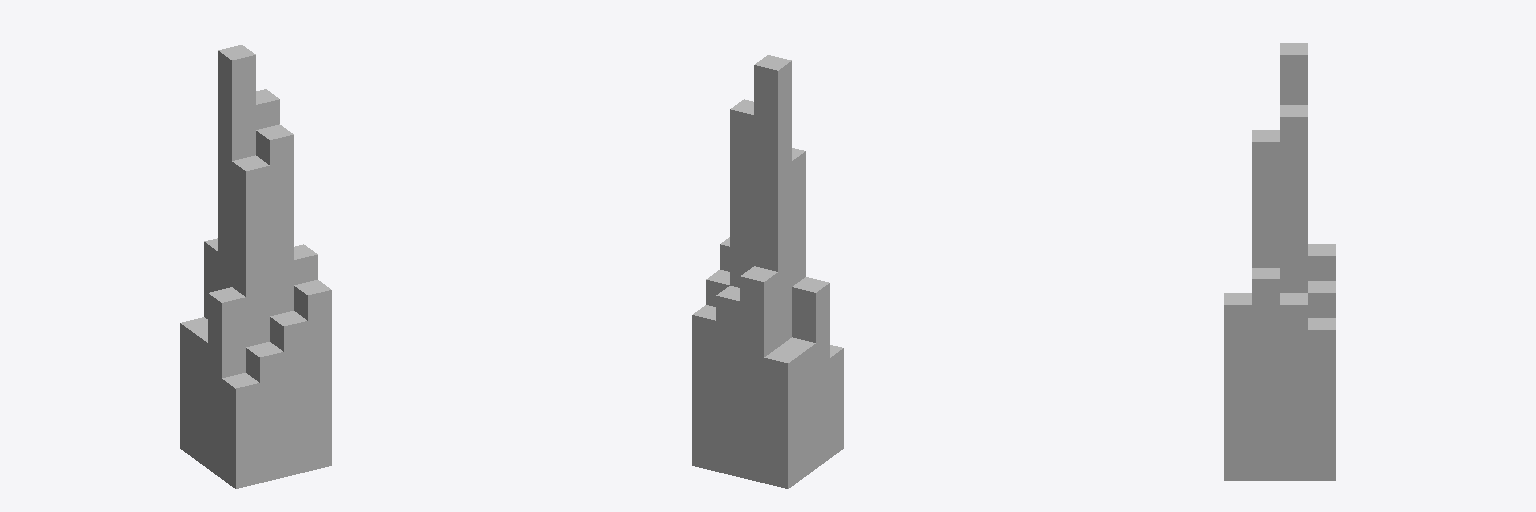
File: stellar collapser red.obj
The picture shows the model from 3 angles: view 1: azimuth 30°, elevation 25°; view 2: azimuth 150°, elevation 25°; view 3: azimuth 270°, elevation 25°; orthographic projection.
Parts seen in each view (by area): view 1: object 1; view 2: object 1; view 3: object 1.
Part boxes in pixels (x1,y1,x2,y2): object 1: (180,45,331,488); object 1: (692,55,843,488); object 1: (1224,43,1335,480).
Bounding box in the file's own units: 0.4 × 1.6 × 0.4.